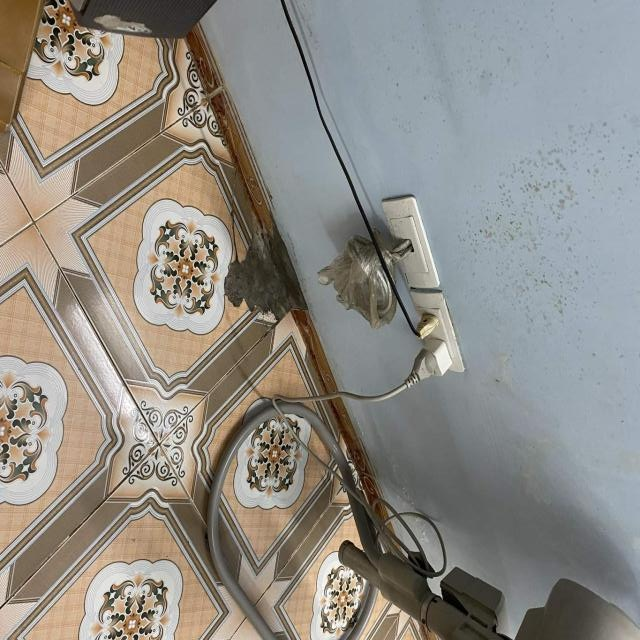outlet: (410, 290, 466, 374)
